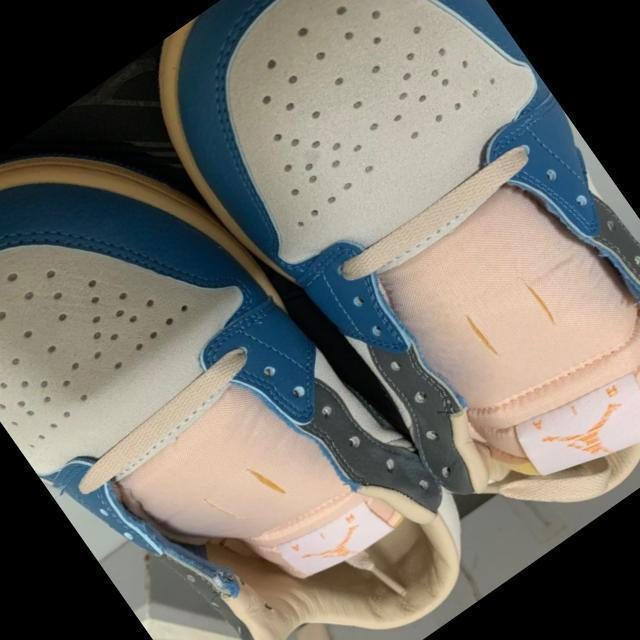nike original jordan 1: (114, 0, 640, 597), (0, 52, 511, 640)
